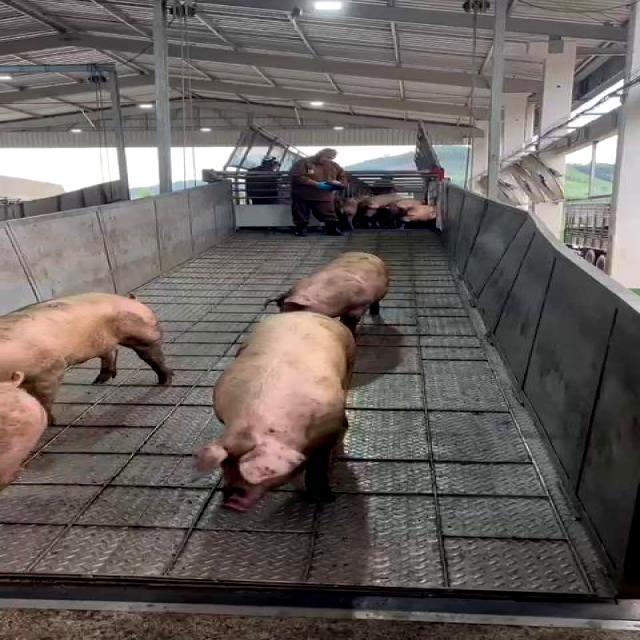pig: (198, 312, 352, 508), (1, 293, 172, 410), (275, 253, 388, 331), (1, 383, 47, 489)
